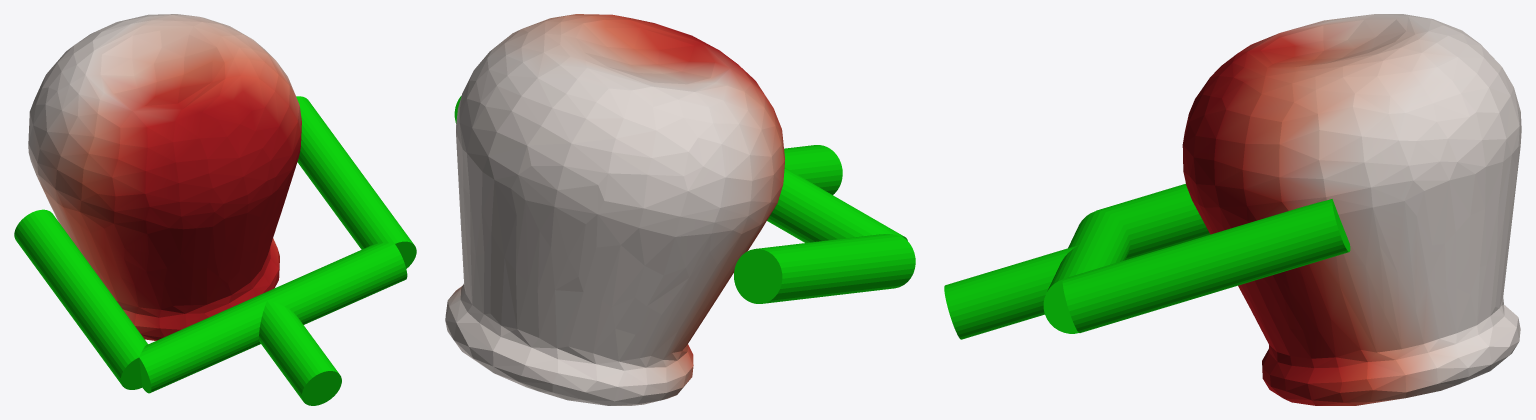
The model's file is round_000_trial_000.obj.
3 renders of one model, left to right at view 1: azimuth 30°, elevation 25°; view 2: azimuth 150°, elevation 25°; view 3: azimuth 270°, elevation 25°, orthographic. The views are drawn at different scales.
Parts seen in each view (by area): view 1: geometry_0, geometry_1; view 2: geometry_0, geometry_1; view 3: geometry_0, geometry_1.
Boxes of the visible parts, <box> form: geometry_0: <box>28,14,301,340</box>; geometry_1: <box>14,96,416,405</box>; geometry_0: <box>445,14,784,405</box>; geometry_1: <box>454,96,915,303</box>; geometry_0: <box>1182,14,1521,405</box>; geometry_1: <box>944,183,1350,339</box>.
Bounding box in the file's own units: 0.0719 × 0.0679 × 0.1015.
